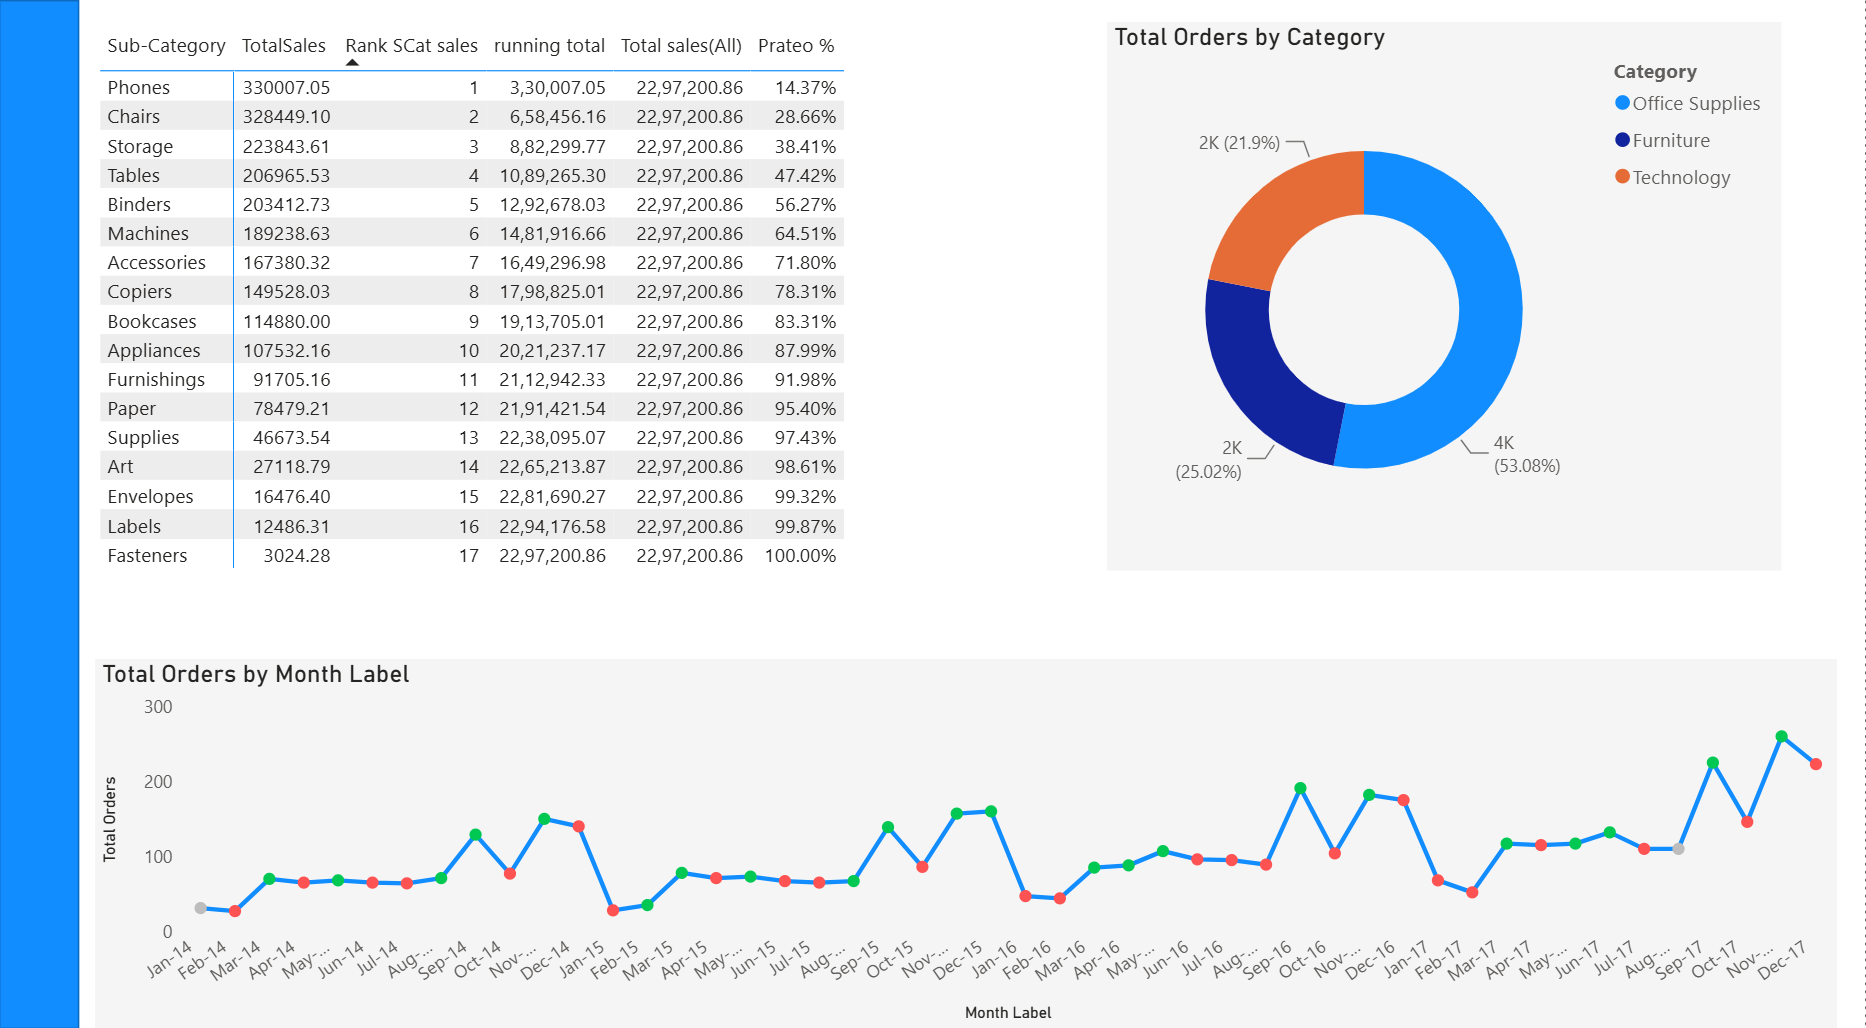

This screenshot's page, from the dashboard's own definition file:
{"tool":"powerbi","page":{"name":"Order Summary","canvas":[1280,720],"ordinal":2},"visuals":[{"type":"shape","box":[0,13.1,55,705],"z":0},{"type":"lineChart","fields":{"Category":["calendartable.Month Label"],"Y":["MTable.Total Orders"]},"box":[65.3,464.8,1194.5,253.3],"z":1000},{"type":"donutChart","fields":{"Y":["MTable.Total Orders"],"Category":["sales.Category"]},"box":[759.2,28.4,462.4,375.6],"z":2000},{"type":"pivotTable","fields":{"Rows":["sales.Sub-Category"],"Values":["MTable.TotalSales","MTable.Rank SCat sales","MTable.running total","MTable.Total sales(All)","MTable.Prateo %"]},"box":[64.7,28.4,647.1,388.3],"z":3000}]}

Visuals, with their boxes in screenshot pixels (x1, y1, x2, y2), scaled from the page's 1280x720 canvas onto the 1866x1028 screenshot:
shape: (x1=0, y1=19, x2=80, y2=1025)
lineChart - calendartable.Month Label x MTable.Total Orders: (x1=95, y1=664, x2=1837, y2=1025)
donutChart - MTable.Total Orders x sales.Category: (x1=1107, y1=41, x2=1781, y2=577)
pivotTable - sales.Sub-Category x MTable.TotalSales: (x1=94, y1=41, x2=1038, y2=595)
